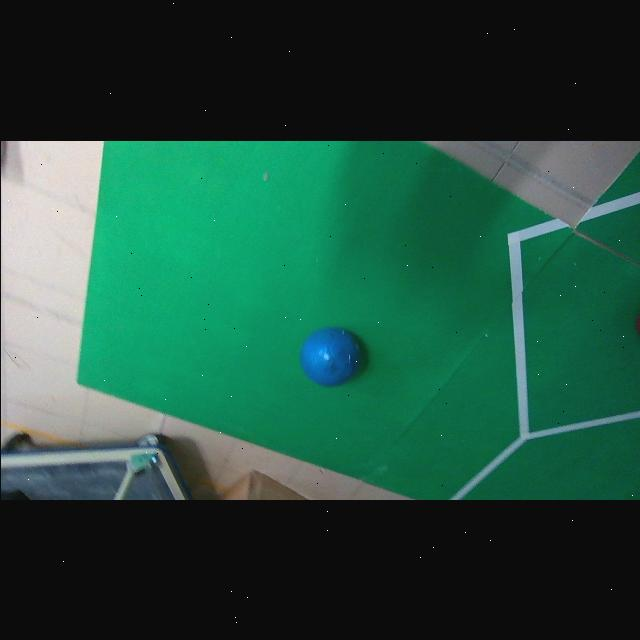B: (299, 327, 360, 386)
